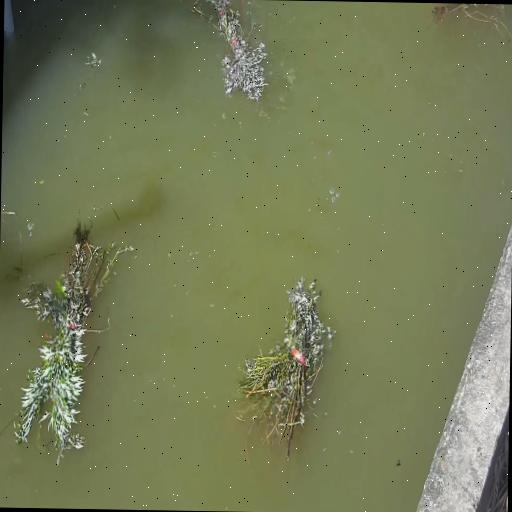twig: (2, 202, 138, 466), (234, 272, 334, 464), (188, 0, 274, 103), (424, 2, 512, 42)
